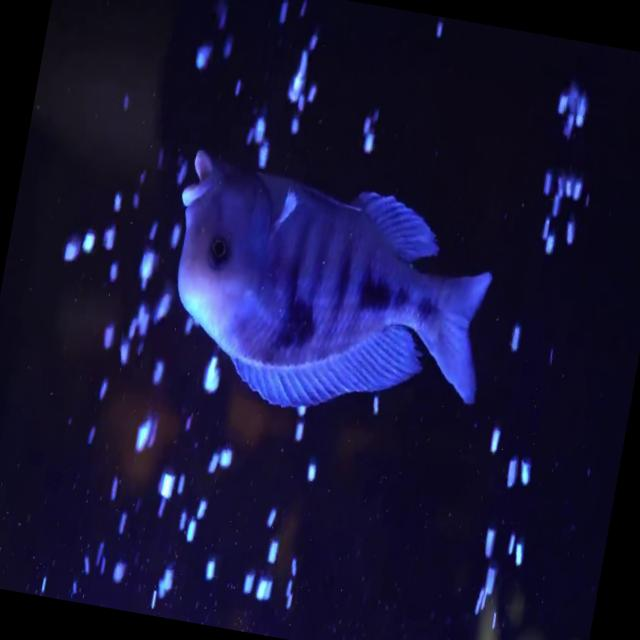fish: (144, 138, 517, 448)
